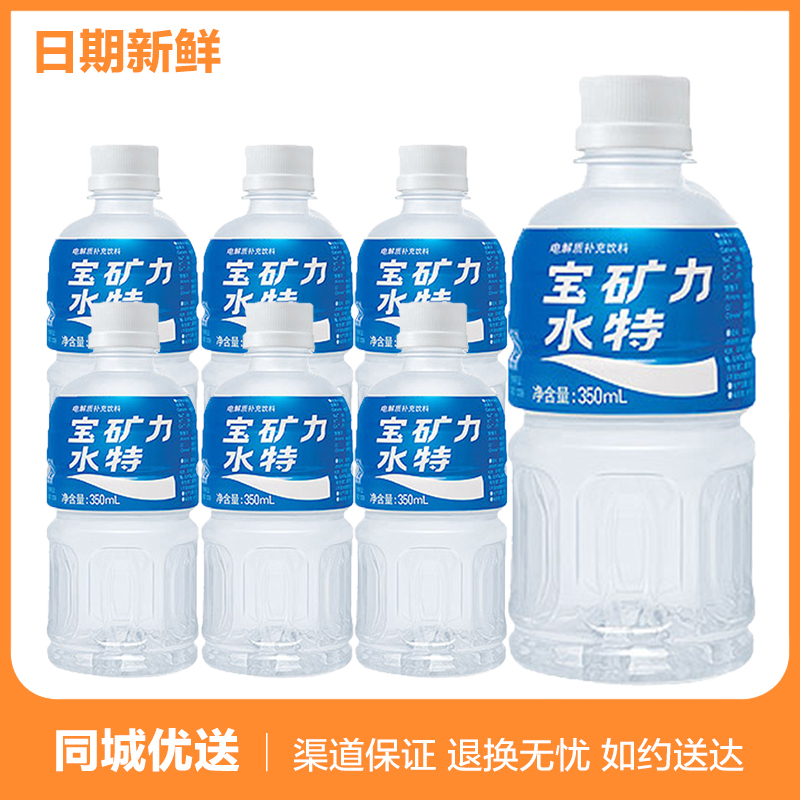POCARI SWEAT: (508, 70, 765, 677), (355, 301, 512, 681), (200, 303, 357, 683), (44, 301, 201, 681), (43, 143, 209, 359), (200, 141, 366, 357), (352, 137, 518, 353)
